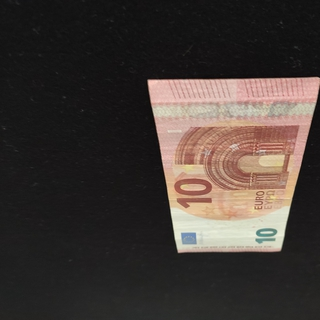10EUROFront: (146, 76, 320, 253)
